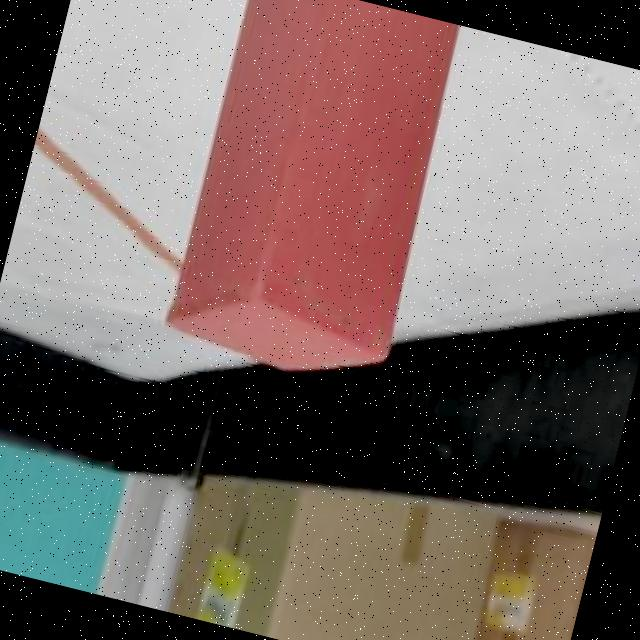redbox: (162, 0, 472, 393)
